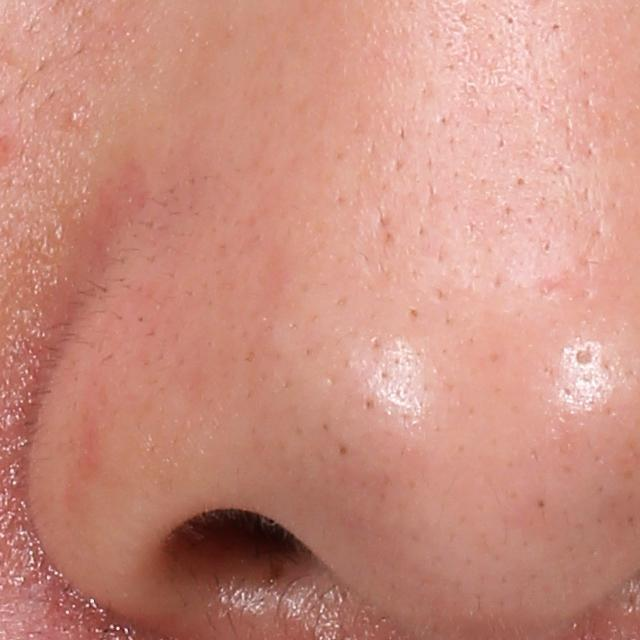comedo: (403, 302, 422, 322)
